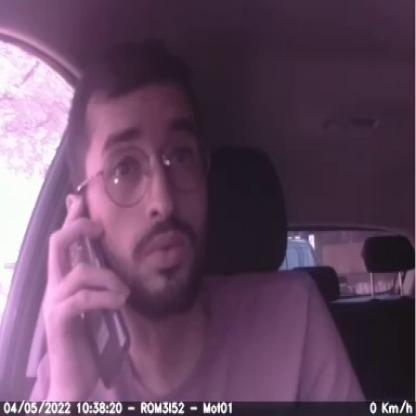phone: (57, 204, 138, 386)
